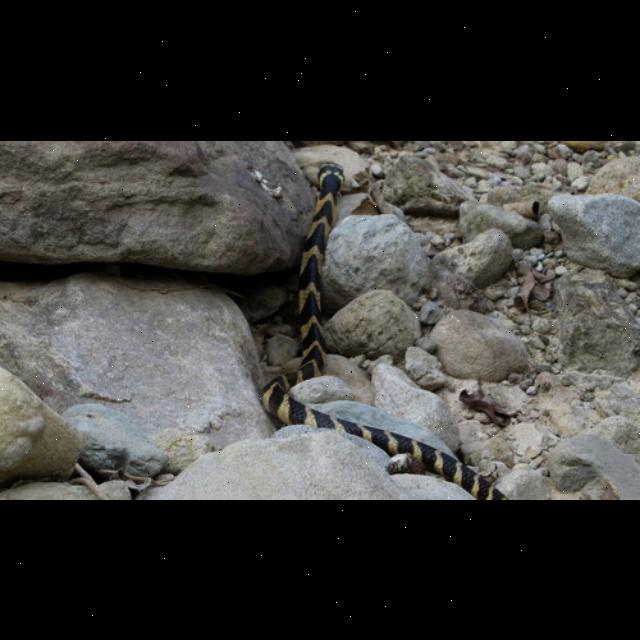snake: (252, 158, 510, 500)
